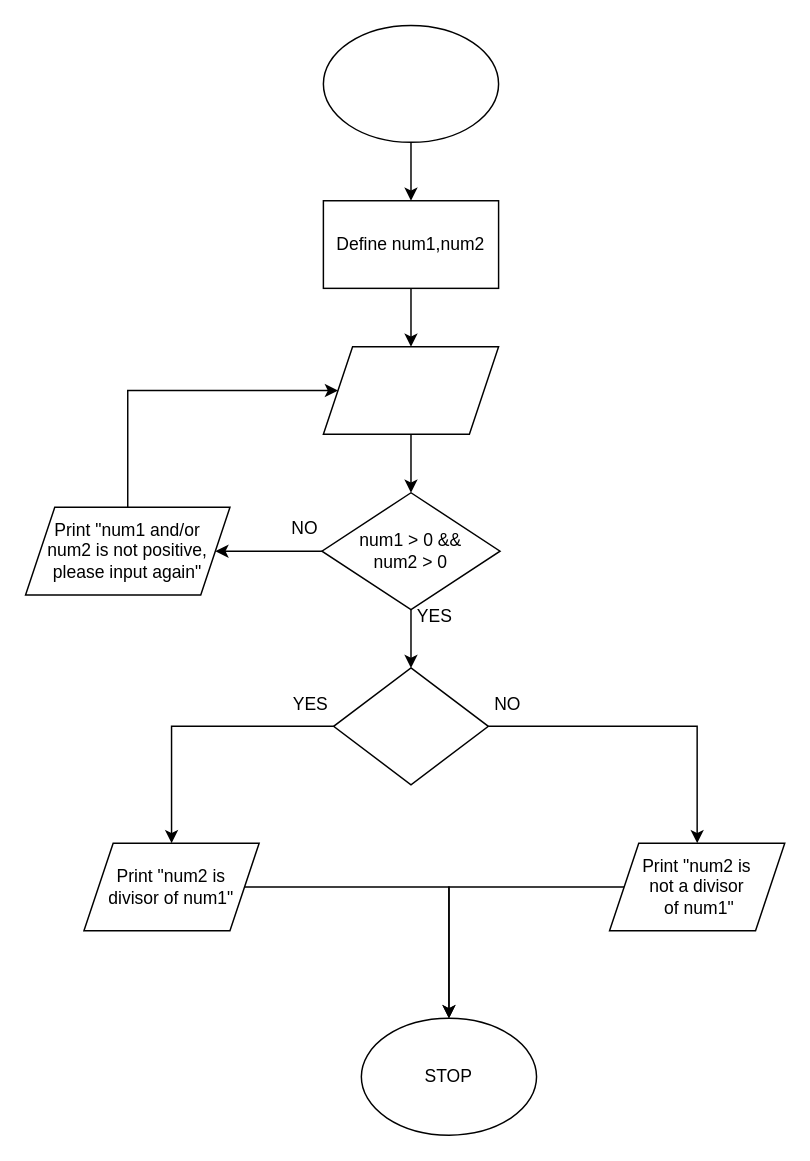
The diagram is 810 pixels wide and 1161 high, and some of its shapes have lost their labels. The shapes that lost their labels are listed below. From the top down, each one's box as (x1, y1, x2, y2) in pixels, then its label:
(322, 24, 499, 142): START
(322, 345, 499, 434): Input num1, num2 as INTEGERS
(332, 666, 488, 785): num2 < num1
